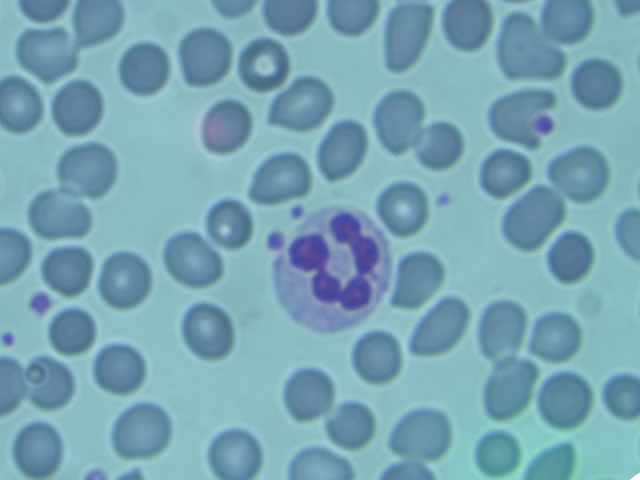Platelets: (428, 186, 461, 217), (27, 290, 55, 317), (535, 114, 559, 138), (1, 326, 23, 352)
RBC: (498, 22, 562, 81), (16, 24, 78, 81), (31, 236, 93, 293), (95, 251, 157, 308), (56, 140, 118, 197), (30, 191, 92, 248), (51, 80, 113, 137), (91, 341, 153, 398), (179, 303, 241, 360), (163, 231, 225, 288), (381, 12, 440, 70), (569, 54, 628, 112), (175, 30, 234, 87), (116, 39, 175, 96), (233, 33, 292, 90), (271, 74, 330, 131), (314, 123, 373, 180), (246, 149, 305, 206), (366, 93, 425, 150), (476, 142, 535, 199), (499, 188, 558, 245), (540, 227, 599, 284), (472, 303, 531, 360), (409, 299, 468, 356), (390, 250, 449, 307), (374, 181, 433, 238), (531, 308, 590, 365), (476, 358, 535, 415), (533, 375, 592, 432), (393, 401, 452, 458), (277, 366, 336, 423), (347, 329, 406, 386), (114, 403, 173, 460), (206, 423, 265, 480), (12, 422, 71, 479), (23, 360, 82, 417), (440, 1, 499, 57), (201, 197, 256, 250), (198, 98, 253, 151), (473, 428, 524, 478), (46, 310, 99, 354), (417, 118, 462, 168), (598, 367, 640, 420), (329, 404, 377, 449)
WBC: (269, 208, 394, 326)
